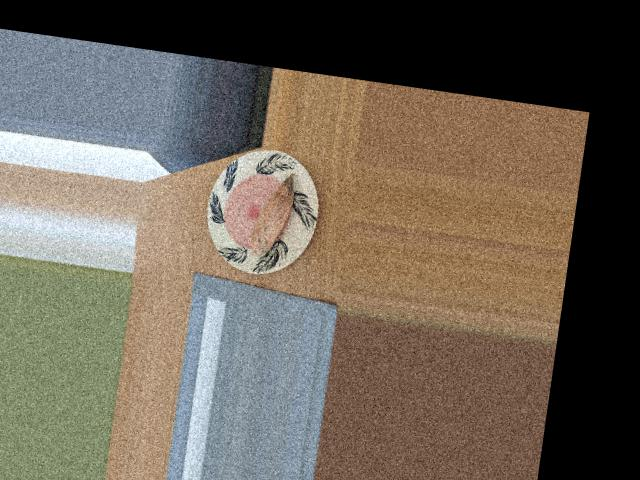sweet_potato: (244, 175, 302, 257)
